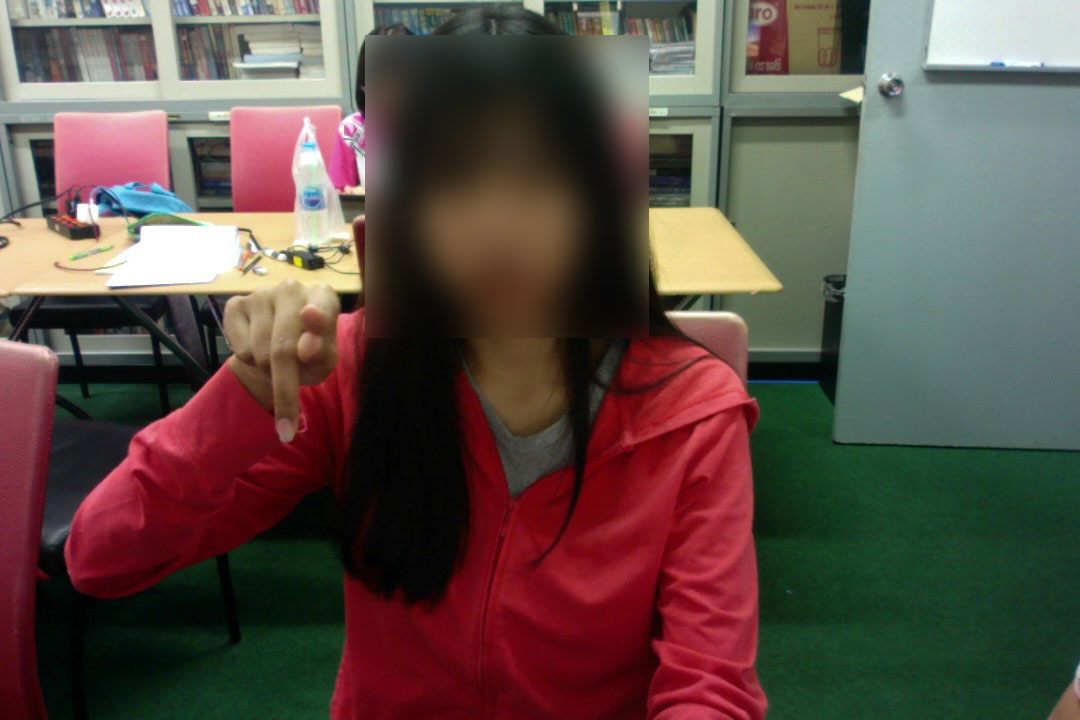por: (212, 276, 346, 450)
